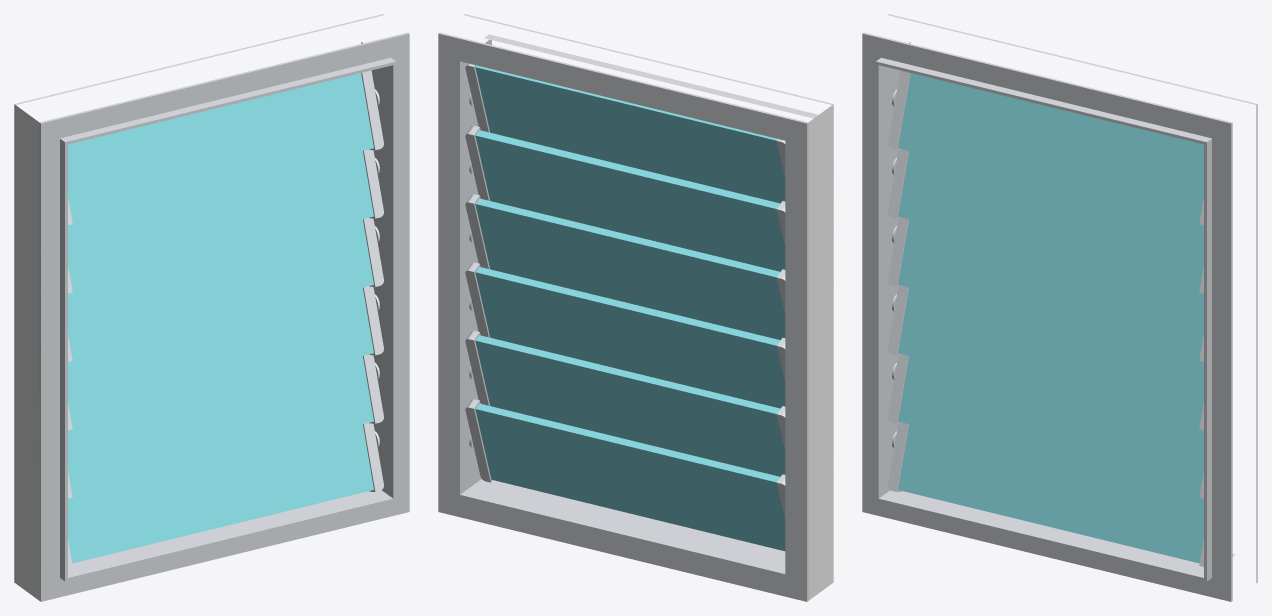
Rendered from Louvered.glb.
3 renders of one model, left to right at view 1: azimuth 30°, elevation 25°; view 2: azimuth 150°, elevation 25°; view 3: azimuth 330°, elevation 25°, orthographic.
Parts seen in each view (by area): view 1: Mesh37 Ghiera_finestra_porta1 Model, Mesh38 Model, Mesh33 Vetro_porta11 Vetro_porta_completo11 Group1 Model, Mesh36 Vetro_porta12 Vetro_porta_completo12 Group1 Model, Mesh9 Vetro_porta3 Vetro_porta_completo3 Group1 Model, Mesh3 Vetro_porta1 Vetro_porta_completo1 Group1 Model, Mesh12 Vetro_porta4 Vetro_porta_completo4 Group1 Model, Mesh27 Vetro_porta9 Vetro_porta_completo9 Group1 Model, Mesh18 Vetro_porta6 Vetro_porta_completo6 Group1 Model, Mesh15 Vetro_porta5 Vetro_porta_completo5 Group1 Model, Mesh21 Vetro_porta7 Vetro_porta_completo7 Group1 Model, Mesh24 Vetro_porta8 Vetro_porta_completo8 Group1 Model (+8 smaller); view 2: Mesh37 Ghiera_finestra_porta1 Model, Mesh38 Model, Mesh9 Vetro_porta3 Vetro_porta_completo3 Group1 Model, Mesh6 Vetro_porta2 Vetro_porta_completo2 Group1 Model, Mesh3 Vetro_porta1 Vetro_porta_completo1 Group1 Model, Mesh12 Vetro_porta4 Vetro_porta_completo4 Group1 Model, Mesh18 Vetro_porta6 Vetro_porta_completo6 Group1 Model, Mesh27 Vetro_porta9 Vetro_porta_completo9 Group1 Model, Mesh24 Vetro_porta8 Vetro_porta_completo8 Group1 Model, Mesh21 Vetro_porta7 Vetro_porta_completo7 Group1 Model, Mesh30 Vetro_porta10 Vetro_porta_completo10 Group1 Model, Mesh15 Vetro_porta5 Vetro_porta_completo5 Group1 Model (+8 smaller); view 3: Mesh37 Ghiera_finestra_porta1 Model, Mesh36 Vetro_porta12 Vetro_porta_completo12 Group1 Model, Mesh33 Vetro_porta11 Vetro_porta_completo11 Group1 Model, Mesh6 Vetro_porta2 Vetro_porta_completo2 Group1 Model, Mesh15 Vetro_porta5 Vetro_porta_completo5 Group1 Model, Mesh30 Vetro_porta10 Vetro_porta_completo10 Group1 Model, Mesh24 Vetro_porta8 Vetro_porta_completo8 Group1 Model, Mesh21 Vetro_porta7 Vetro_porta_completo7 Group1 Model, Mesh12 Vetro_porta4 Vetro_porta_completo4 Group1 Model, Mesh18 Vetro_porta6 Vetro_porta_completo6 Group1 Model, Mesh27 Vetro_porta9 Vetro_porta_completo9 Group1 Model, Mesh3 Vetro_porta1 Vetro_porta_completo1 Group1 Model (+7 smaller).
Boxes of the visible parts, <box> form: Mesh37 Ghiera_finestra_porta1 Model: <box>14,14,409,601</box>; Mesh38 Model: <box>15,105,40,601</box>; Mesh33 Vetro_porta11 Vetro_porta_completo11 Group1 Model: <box>210,73,373,184</box>; Mesh36 Vetro_porta12 Vetro_porta_completo12 Group1 Model: <box>68,110,222,221</box>; Mesh9 Vetro_porta3 Vetro_porta_completo3 Group1 Model: <box>211,424,373,526</box>; Mesh3 Vetro_porta1 Vetro_porta_completo1 Group1 Model: <box>211,287,373,389</box>; Mesh12 Vetro_porta4 Vetro_porta_completo4 Group1 Model: <box>211,219,373,321</box>; Mesh27 Vetro_porta9 Vetro_porta_completo9 Group1 Model: <box>211,356,373,458</box>; Mesh18 Vetro_porta6 Vetro_porta_completo6 Group1 Model: <box>211,151,373,253</box>; Mesh15 Vetro_porta5 Vetro_porta_completo5 Group1 Model: <box>68,256,222,358</box>; Mesh21 Vetro_porta7 Vetro_porta_completo7 Group1 Model: <box>68,188,222,289</box>; Mesh24 Vetro_porta8 Vetro_porta_completo8 Group1 Model: <box>68,393,222,494</box>; Mesh37 Ghiera_finestra_porta1 Model: <box>438,14,833,601</box>; Mesh38 Model: <box>808,105,833,600</box>; Mesh9 Vetro_porta3 Vetro_porta_completo3 Group1 Model: <box>475,403,642,516</box>; Mesh6 Vetro_porta2 Vetro_porta_completo2 Group1 Model: <box>626,440,785,551</box>; Mesh3 Vetro_porta1 Vetro_porta_completo1 Group1 Model: <box>475,267,641,374</box>; Mesh12 Vetro_porta4 Vetro_porta_completo4 Group1 Model: <box>475,198,641,306</box>; Mesh18 Vetro_porta6 Vetro_porta_completo6 Group1 Model: <box>475,130,641,237</box>; Mesh27 Vetro_porta9 Vetro_porta_completo9 Group1 Model: <box>475,335,641,442</box>; Mesh24 Vetro_porta8 Vetro_porta_completo8 Group1 Model: <box>626,372,785,476</box>; Mesh21 Vetro_porta7 Vetro_porta_completo7 Group1 Model: <box>626,167,785,271</box>; Mesh30 Vetro_porta10 Vetro_porta_completo10 Group1 Model: <box>626,303,785,408</box>; Mesh15 Vetro_porta5 Vetro_porta_completo5 Group1 Model: <box>626,235,785,339</box>; Mesh37 Ghiera_finestra_porta1 Model: <box>862,14,1257,601</box>; Mesh36 Vetro_porta12 Vetro_porta_completo12 Group1 Model: <box>898,73,1061,184</box>; Mesh33 Vetro_porta11 Vetro_porta_completo11 Group1 Model: <box>1049,110,1203,221</box>; Mesh6 Vetro_porta2 Vetro_porta_completo2 Group1 Model: <box>898,424,1060,526</box>; Mesh15 Vetro_porta5 Vetro_porta_completo5 Group1 Model: <box>898,219,1060,321</box>; Mesh30 Vetro_porta10 Vetro_porta_completo10 Group1 Model: <box>898,287,1060,389</box>; Mesh24 Vetro_porta8 Vetro_porta_completo8 Group1 Model: <box>898,356,1060,458</box>; Mesh21 Vetro_porta7 Vetro_porta_completo7 Group1 Model: <box>898,151,1060,253</box>; Mesh12 Vetro_porta4 Vetro_porta_completo4 Group1 Model: <box>1049,256,1203,358</box>; Mesh18 Vetro_porta6 Vetro_porta_completo6 Group1 Model: <box>1049,188,1203,289</box>; Mesh27 Vetro_porta9 Vetro_porta_completo9 Group1 Model: <box>1049,393,1203,494</box>; Mesh3 Vetro_porta1 Vetro_porta_completo1 Group1 Model: <box>1049,324,1203,426</box>.
Bounding box in the file's own units: 24 × 29.75 × 3.6.
